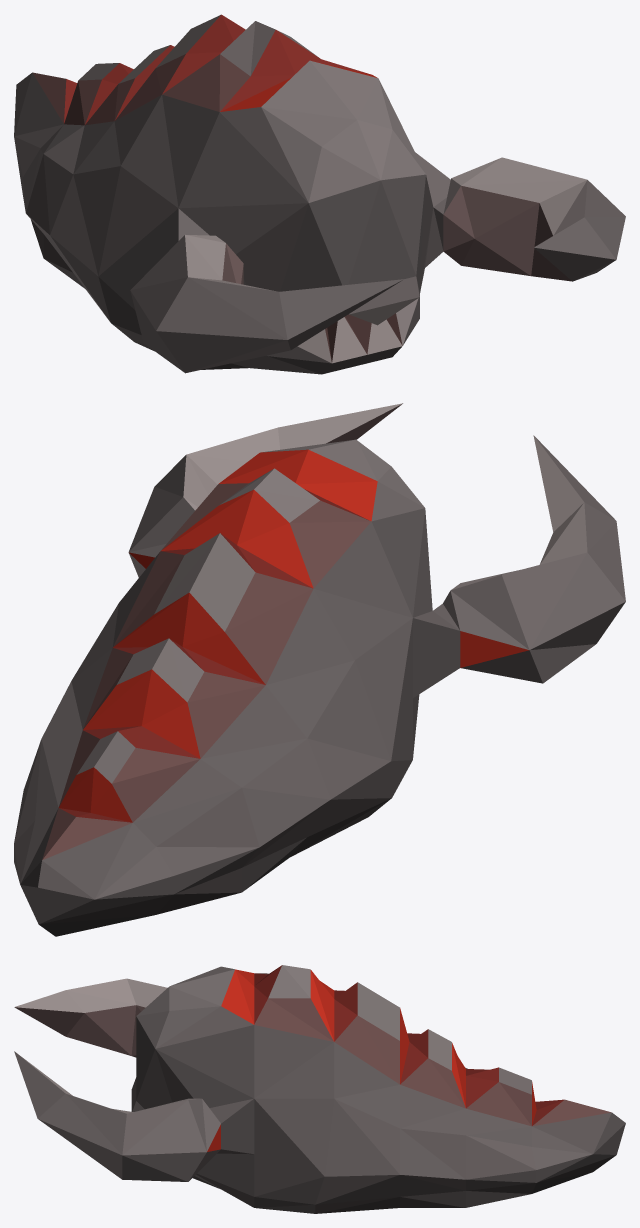
The model's file is nibbler.glb.
3 views of the same model, one above another, from view 1: azimuth 30°, elevation 25°; view 2: azimuth 150°, elevation 25°; view 3: azimuth 270°, elevation 25° (orthographic). The views are drawn at different scales.
Bounding box in the file's own units: 79.97 × 49.02 × 130.
2 materials, 2 textured.
